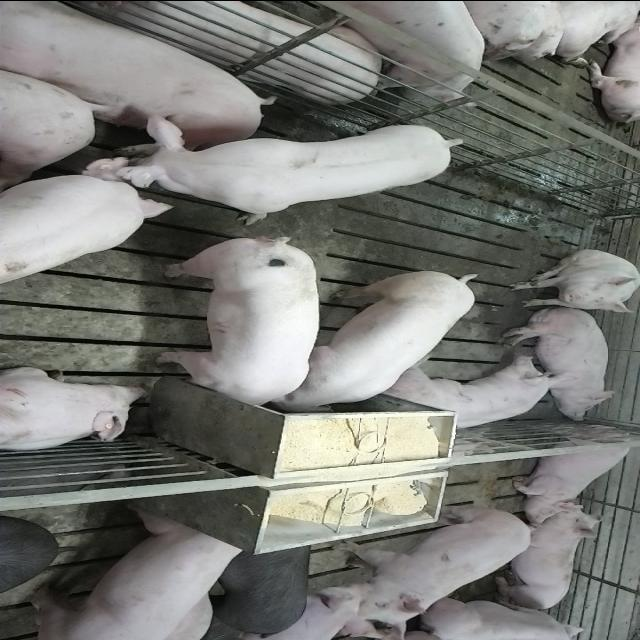Feeding: (272, 264, 479, 412), (156, 241, 322, 415)
Lateral_lying: (0, 4, 272, 158), (501, 306, 618, 420)
Sitting: (508, 424, 640, 516), (506, 249, 638, 313)
Standing: (72, 113, 466, 220), (21, 509, 247, 638), (312, 504, 530, 632), (0, 154, 172, 282), (293, 0, 483, 100), (198, 543, 316, 637)
Sternal_lying: (381, 354, 573, 434), (0, 366, 150, 454), (488, 502, 604, 612)
